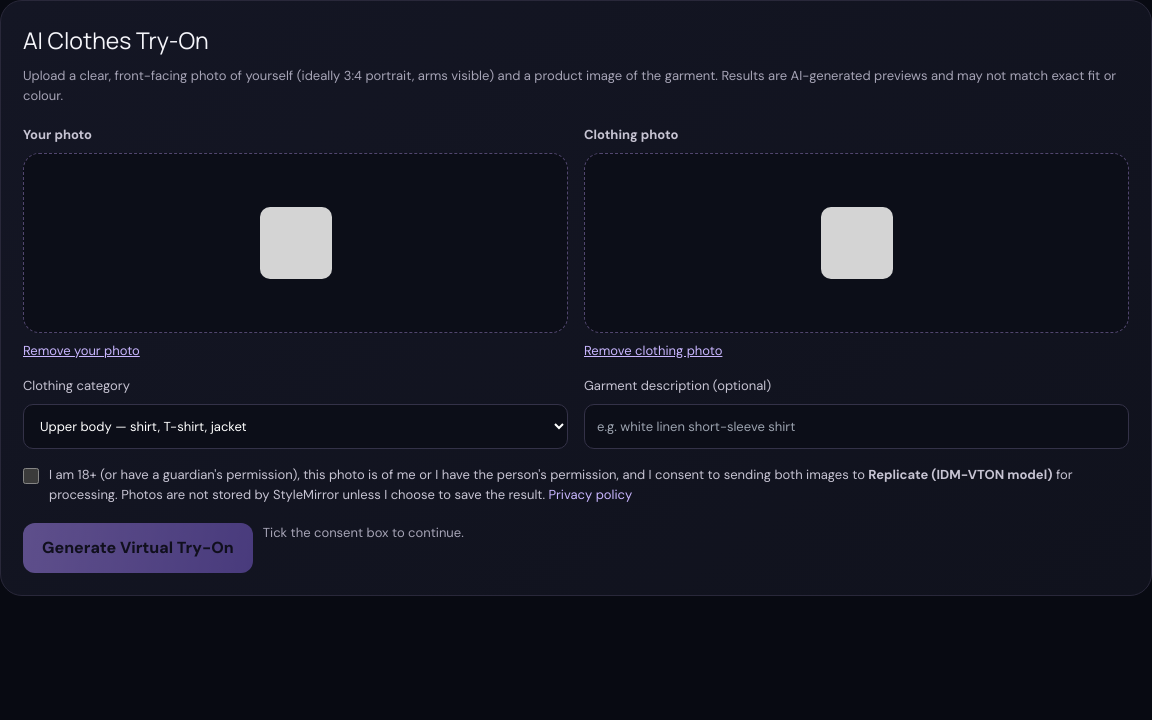
Test: ClothesTryOn › requires consent before generating
Earlier steps of the test are not shown.
Check: the button "Generate Virtual Try-On" is disabled, box x1=23 y1=523 x2=253 y2=573
Check: the text "Tick the consent box to continue." is shown, box x1=263 y1=524 x2=464 y2=541
Click the checkbox.
click(31, 476)  # box x1=23 y1=468 x2=39 y2=484
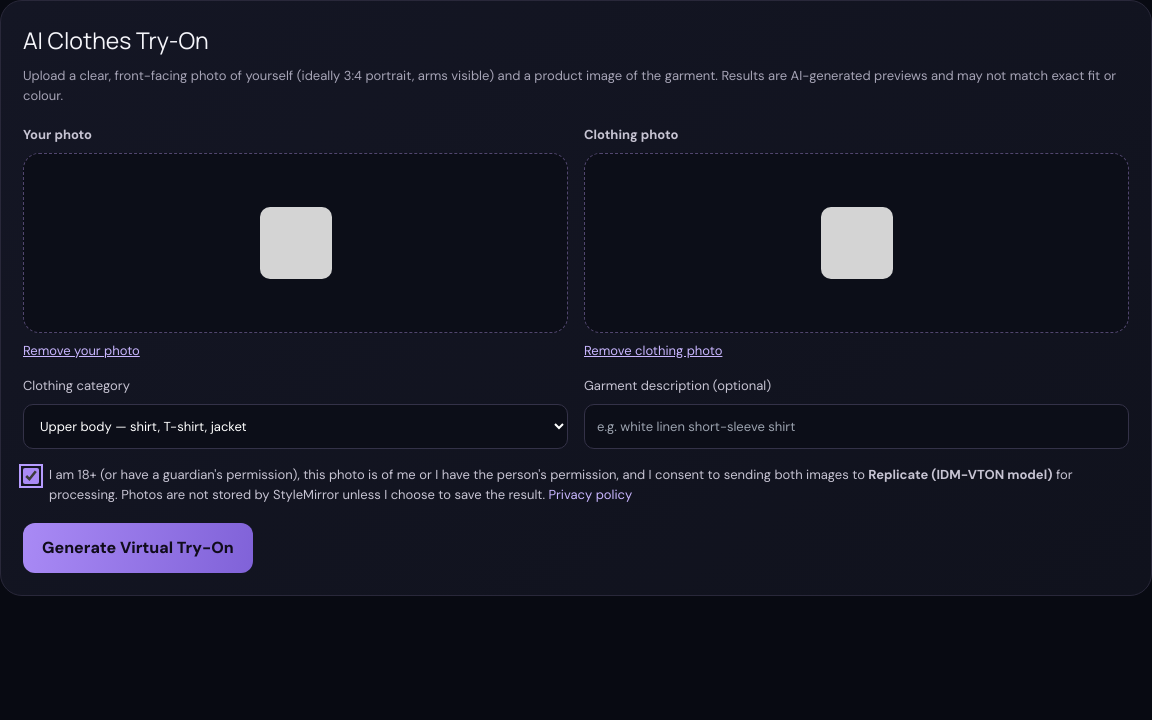
Check: the text "Replicate (IDM-VTON model)" is shown, box x1=868 y1=466 x2=1052 y2=483
Check: the button "Generate Virtual Try-On" is enabled, box x1=23 y1=523 x2=253 y2=573
